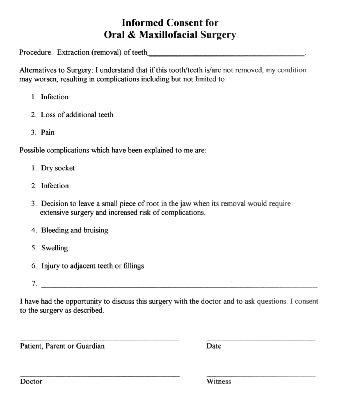textline: (38, 272, 321, 291), (17, 363, 185, 381), (145, 43, 308, 60), (17, 328, 184, 344), (203, 327, 322, 344), (203, 364, 322, 380)
